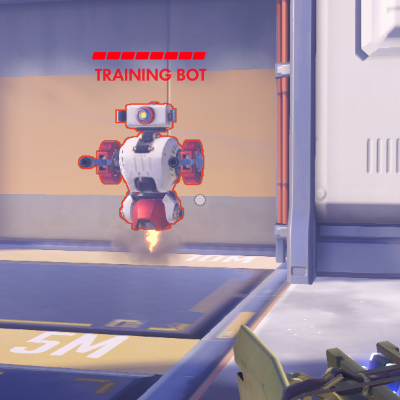hpbar: (92, 51, 207, 60)
